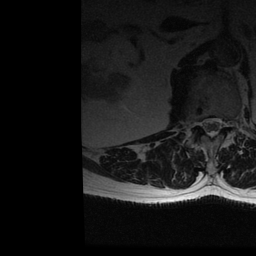CCS_normal: (208, 111, 215, 144)
LFS_normal: (223, 112, 231, 134)
LLS_normal: (216, 111, 223, 139)
RFS_stenosis: (196, 114, 202, 136)
RLS_normal: (202, 112, 208, 138)
